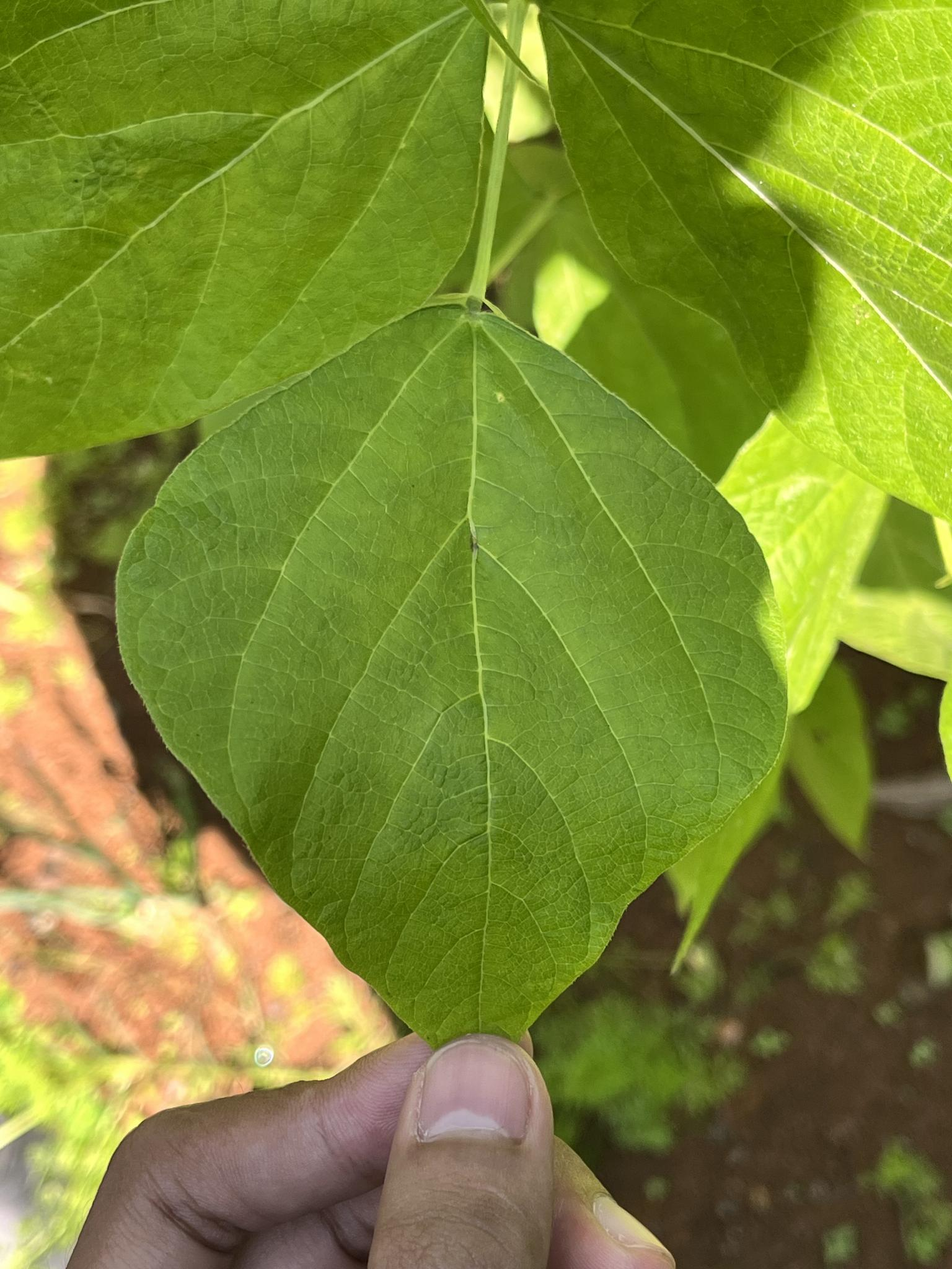sehat: (119, 291, 792, 1061)
